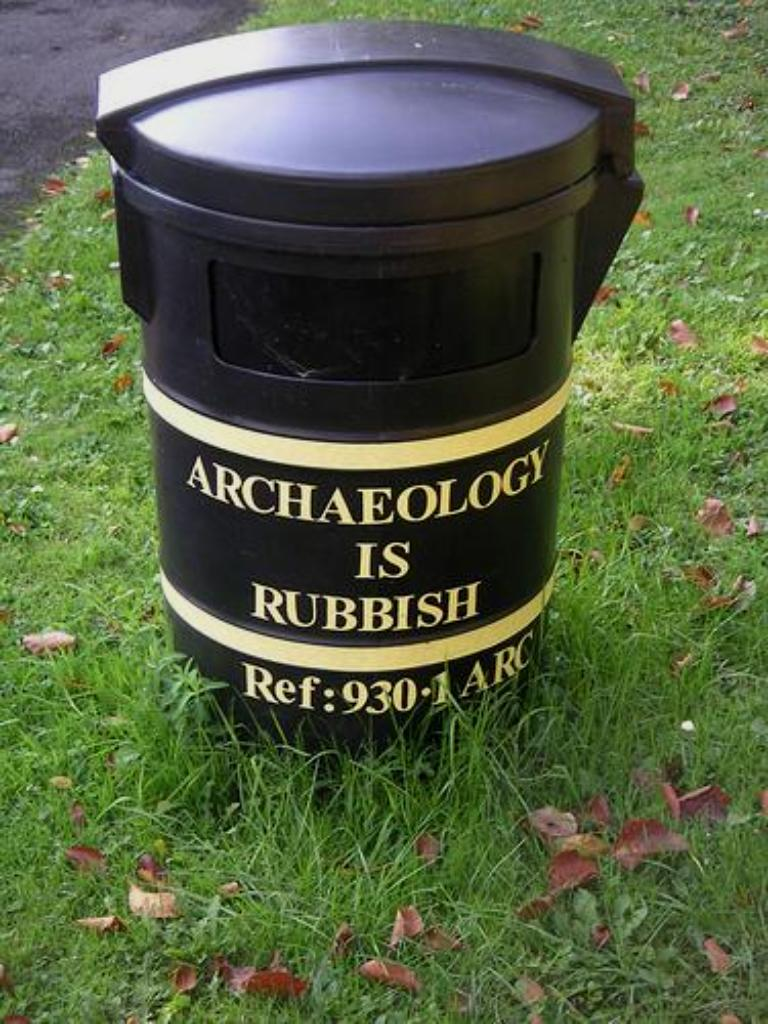dustbin: (76, 38, 658, 762)
